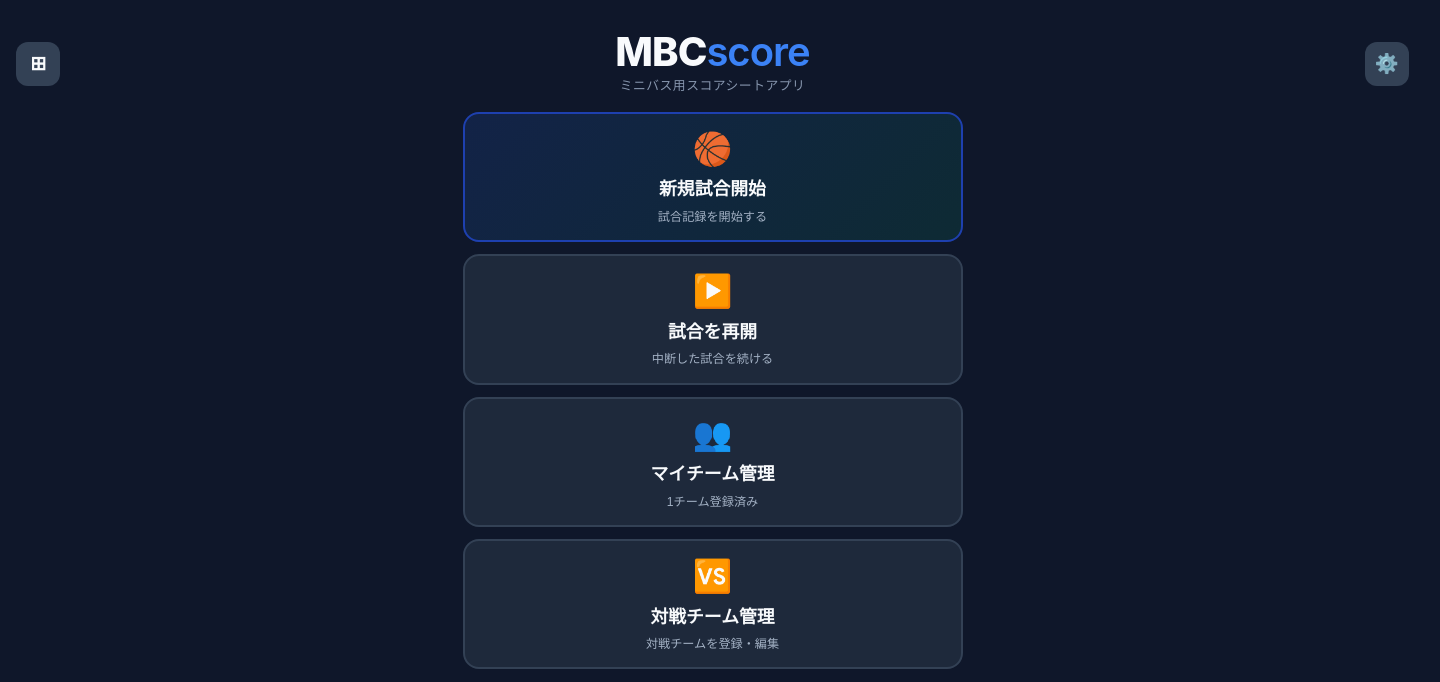
Test: 記録画面の全画面ボタン › 対応端末では出す
Click the text "試合を再開".
click(713, 330)  # box 668,317 -> 757,343
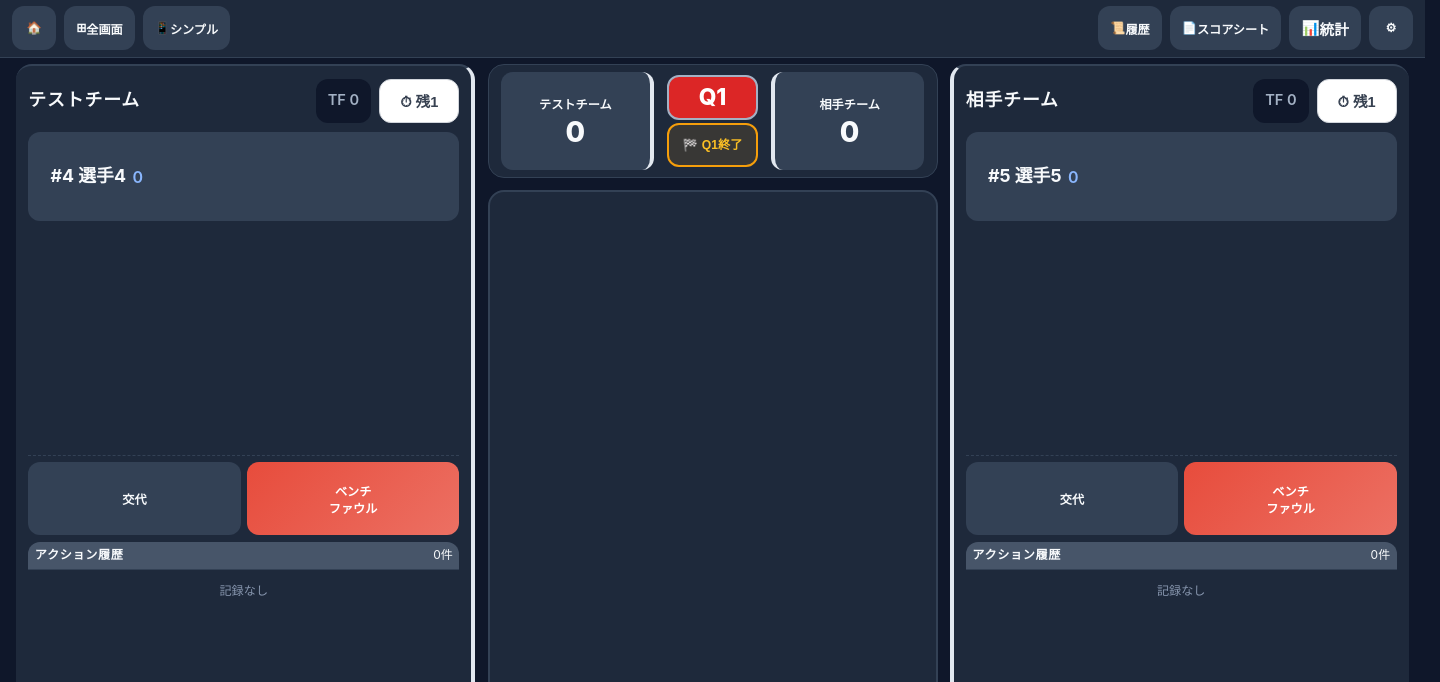
Check: the button with aria-label "全画面表示" is shown, box 64,6 -> 135,50
